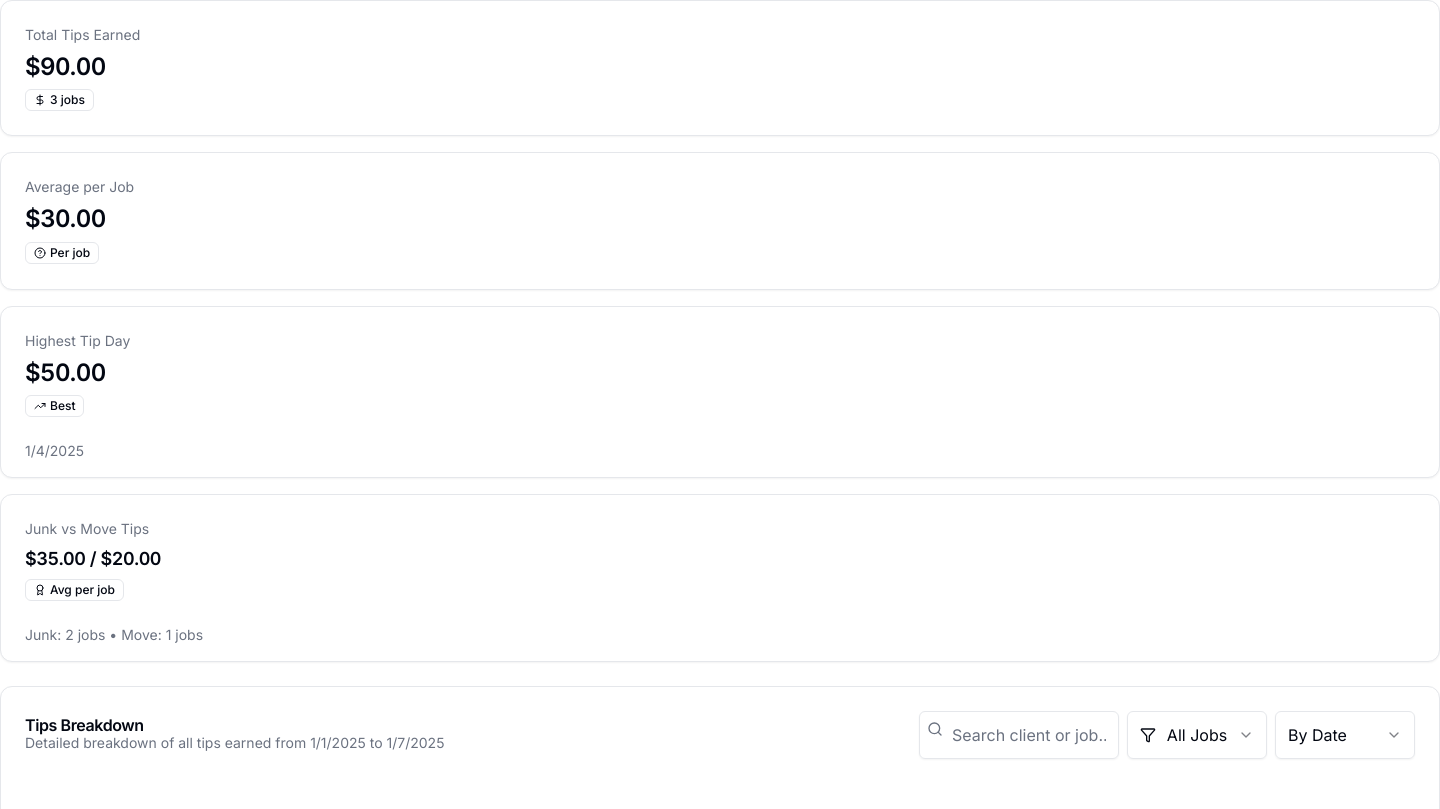
it: TipsDetailView › displays empty state when no tips match filters
// Search for something that doesn't exist
In the field with placeholder "Search client or job...": (1019, 735) [919, 711, 1119, 759], type "NonexistentClient"
(page scrolled)
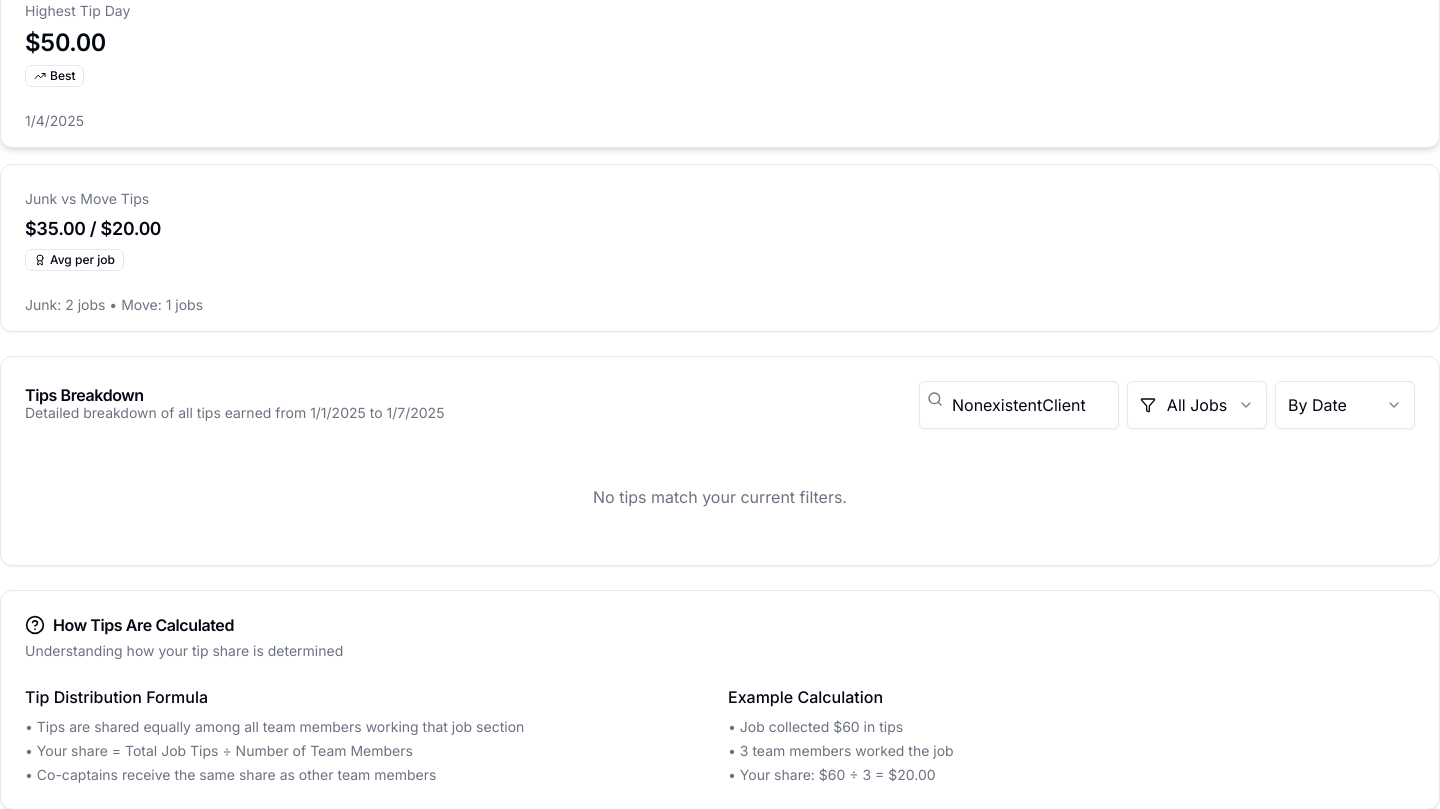
Expected: the text "No tips match your current filters." is shown, [593, 487, 847, 507]
